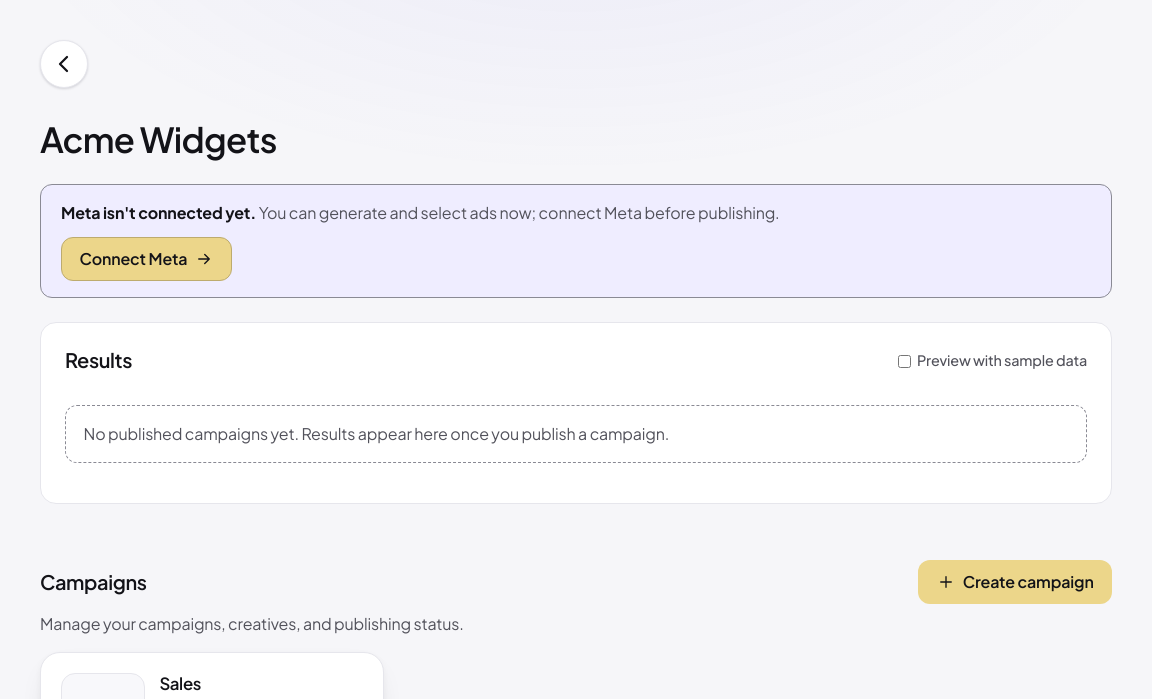
Test: BusinessDetailPage › the Meta step before the first campaign › the later Meta step, after a campaign, product and audience exist › stays skipped on a reload (?metaLater=1) and can go back to connect Meta
This screenshot has width=1152, height=699.
Click the button "Connect Meta" at {"x": 146, "y": 259}, box [61, 237, 232, 281]
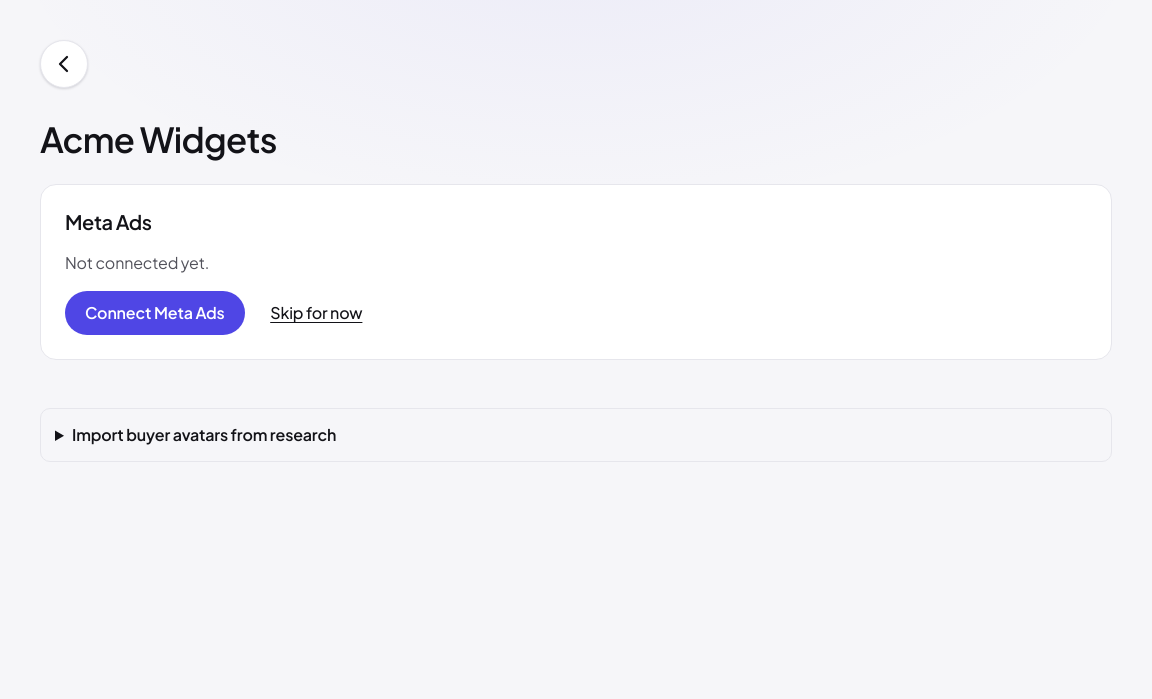
Now the heading "Meta Ads" is shown, box [65, 209, 152, 234]
Now the text "Meta isn't connected yet." is gone
